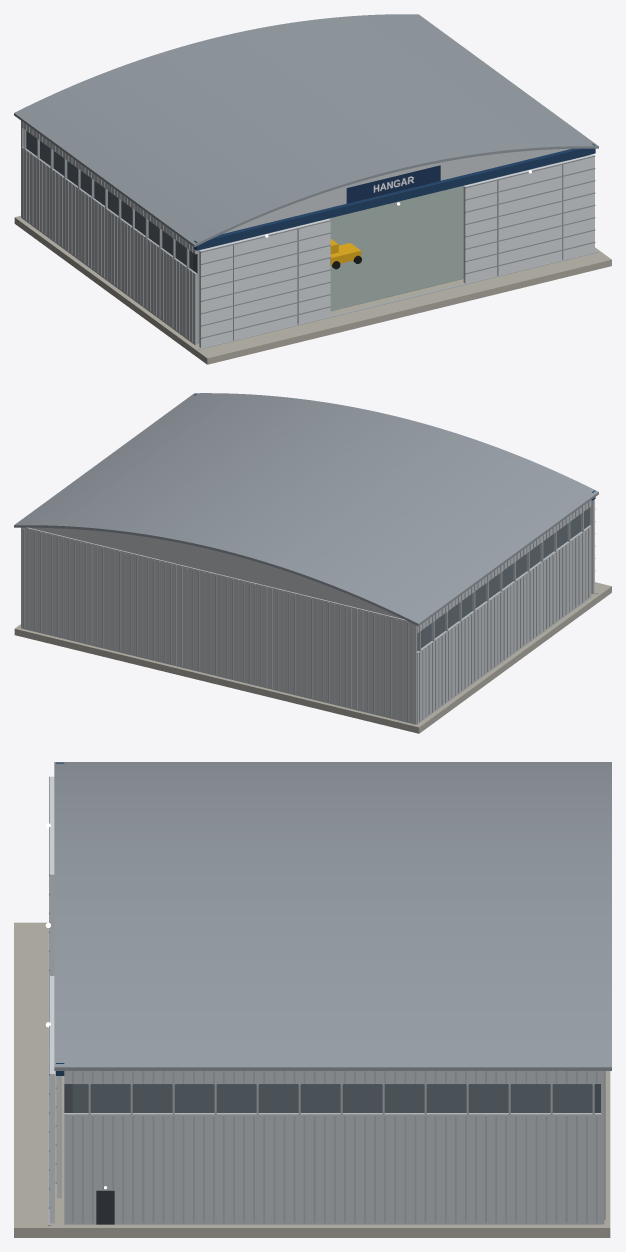
Rendered from hangar.glb.
3 views of the same model, one above another, from view 1: azimuth 30°, elevation 25°; view 2: azimuth 150°, elevation 25°; view 3: azimuth 270°, elevation 25° (orthographic). The views are drawn at different scales.
Parts seen in each view (by area): view 1: roof_metal, door_steel, cladding_steel, floor_epoxy, concrete_plinth, cladding_rib, door_rib, cladding_blue, clerestory_back, clerestory_glass, sign_hangar, tug_yellow; view 2: roof_metal, cladding_steel, cladding_rib, concrete_plinth, clerestory_glass, clerestory_back; view 3: roof_metal, cladding_steel, concrete_plinth, cladding_rib, clerestory_back, clerestory_glass, door_steel, door_dark, door_rib.
Boxes of the visible parts, bbox=[...] form: roof_metal: bbox=[14, 14, 598, 247]; door_steel: bbox=[199, 154, 594, 347]; cladding_steel: bbox=[21, 121, 590, 345]; floor_epoxy: bbox=[197, 178, 492, 343]; concrete_plinth: bbox=[14, 215, 611, 364]; cladding_rib: bbox=[22, 122, 597, 349]; door_rib: bbox=[201, 155, 595, 340]; cladding_blue: bbox=[194, 143, 595, 250]; clerestory_back: bbox=[26, 131, 585, 273]; clerestory_glass: bbox=[24, 130, 191, 270]; sign_hangar: bbox=[346, 165, 440, 203]; tug_yellow: bbox=[330, 239, 361, 265]; roof_metal: bbox=[14, 393, 598, 626]; cladding_steel: bbox=[21, 500, 591, 724]; cladding_rib: bbox=[23, 501, 598, 722]; concrete_plinth: bbox=[14, 582, 611, 733]; clerestory_glass: bbox=[421, 510, 588, 649]; clerestory_back: bbox=[417, 507, 589, 650]; roof_metal: bbox=[54, 762, 611, 1070]; cladding_steel: bbox=[64, 1071, 604, 1224]; concrete_plinth: bbox=[14, 922, 610, 1237]; cladding_rib: bbox=[47, 928, 605, 1225]; clerestory_back: bbox=[64, 1084, 600, 1112]; clerestory_glass: bbox=[73, 1084, 592, 1113]; door_steel: bbox=[50, 776, 61, 1223]; door_dark: bbox=[96, 1190, 114, 1224]; door_rib: bbox=[49, 776, 56, 1208].
Bounding box in the file's own units: 43 × 13.85 × 35.6.
22 materials, 1 textured.
